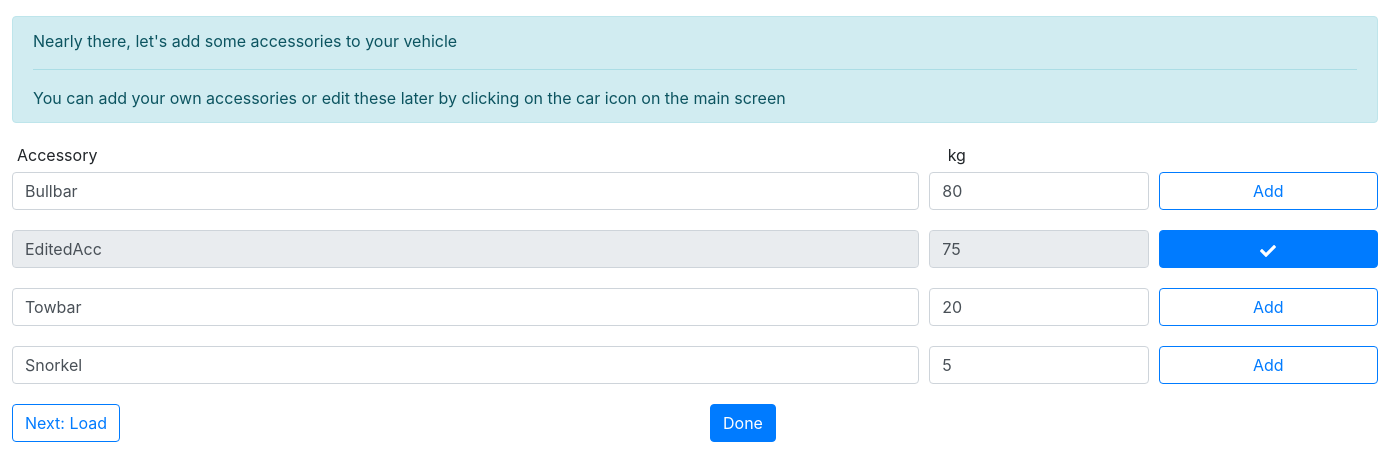
presets to on the load already added in the wizard
The width and height of the screenshot is (1390, 459).
Click the button "Next: Load" at (66,423), box [12,404,120,442]
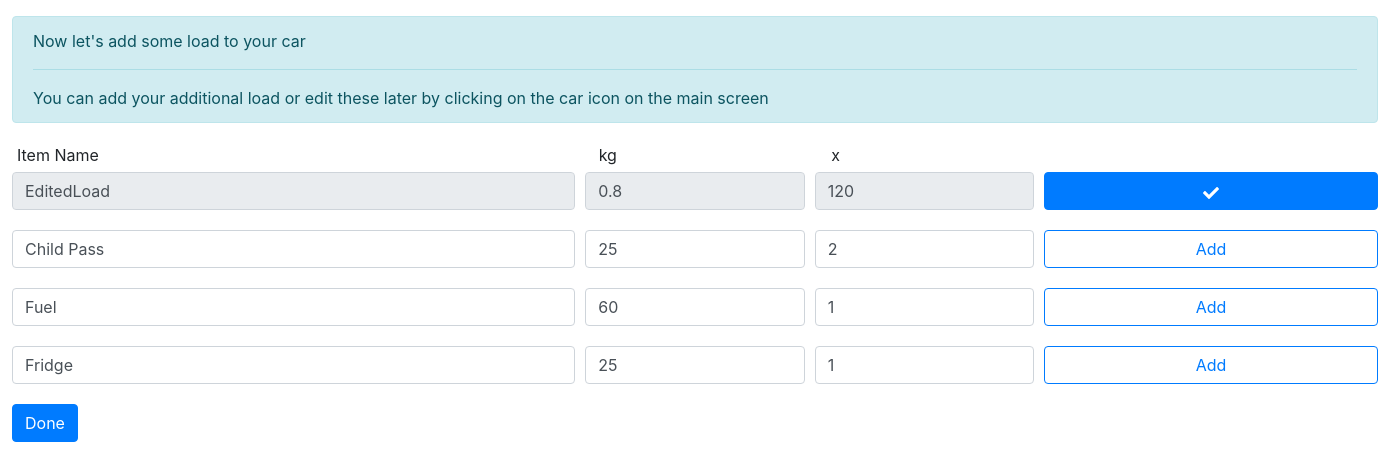
expect the number of buttons with test id "btn-load-on" is 1: met, box [1044,172,1378,210]
expect the 1st field with placeholder "Item Name" holds "EditedLoad": met, box [12,172,575,210]
expect the 2nd field with placeholder "Item Name" holds "Child Pass": met, box [12,230,575,268]
